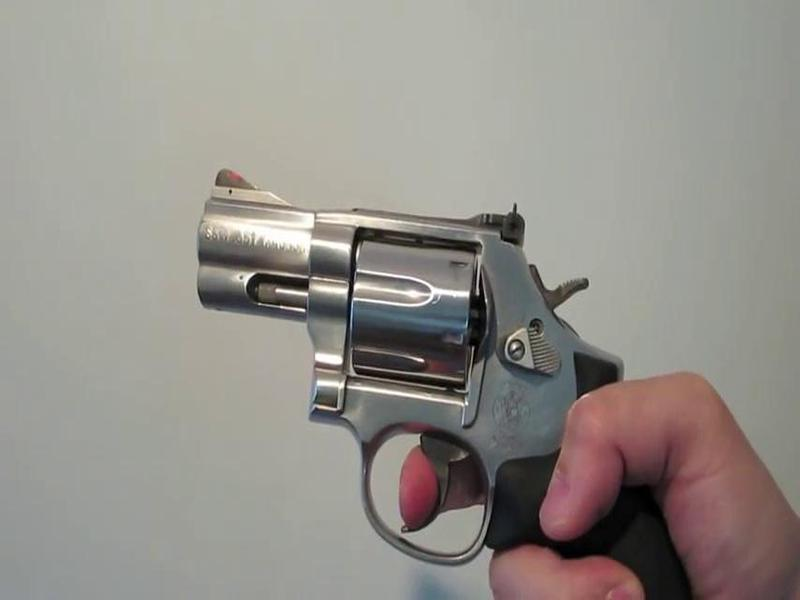Revolver: (176, 157, 694, 600)
